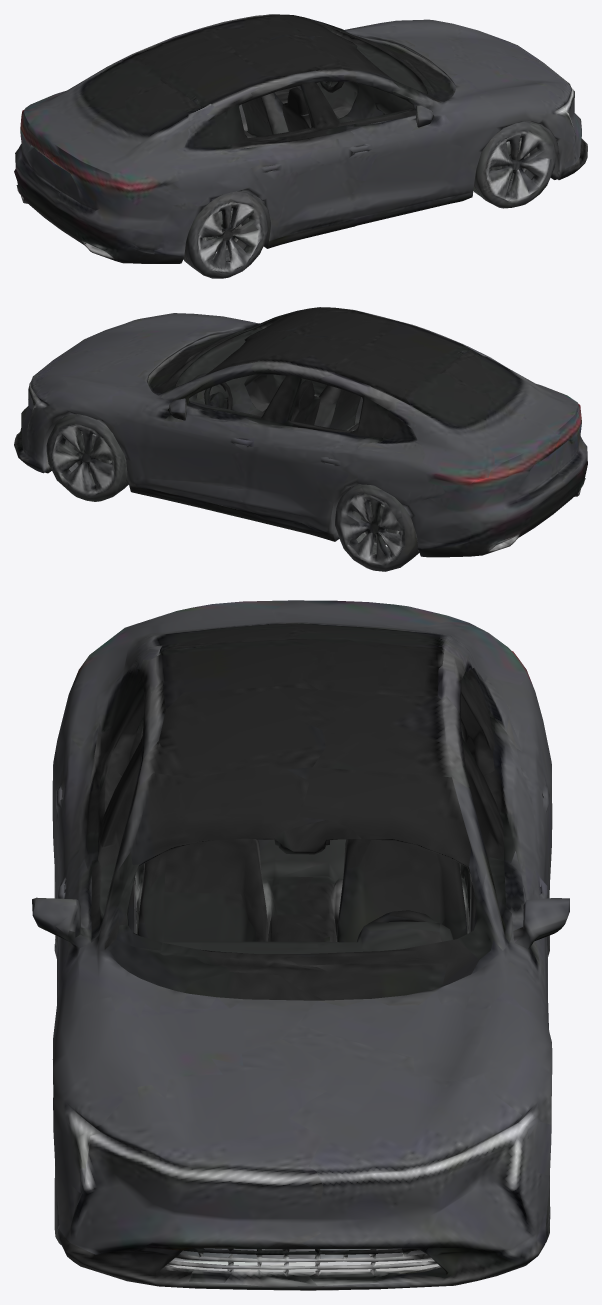
Rendered from prop_SEDAN.glb.
The picture shows the model from 3 angles, top to bottom: view 1: azimuth 30°, elevation 25°; view 2: azimuth 150°, elevation 25°; view 3: azimuth 270°, elevation 25°; orthographic projection. The views are drawn at different scales.
Size of the model in its own units: 0.9998 by 0.3154 by 0.4587.
Materials: 1 (1 with a texture image).
